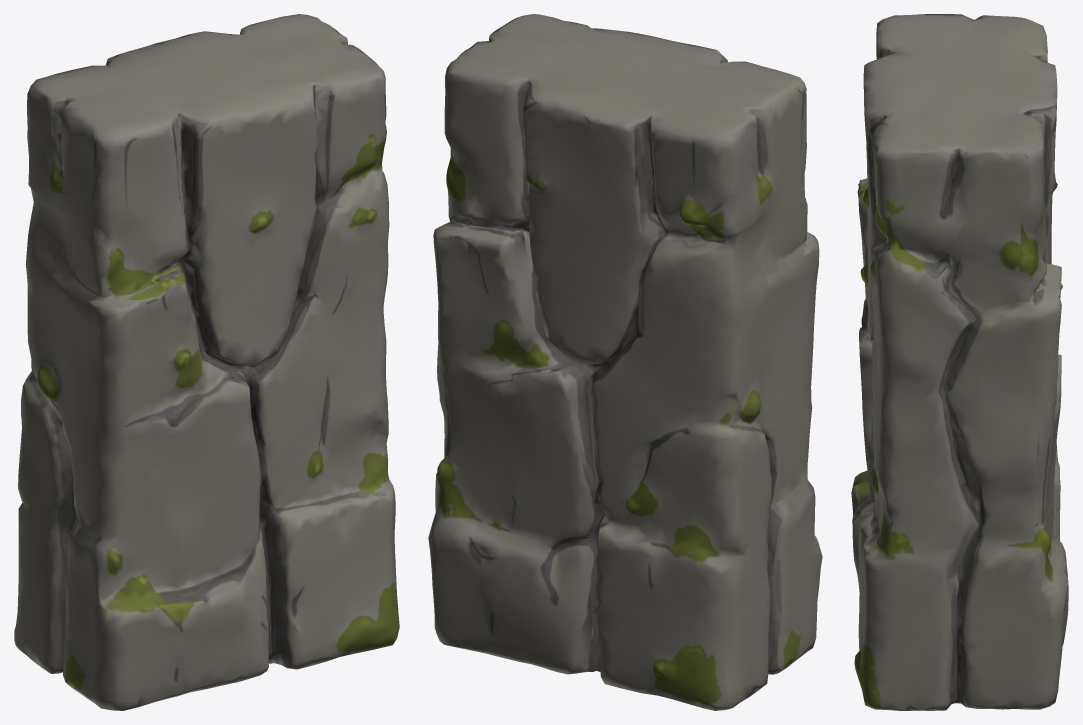
Rendered from Env_CliffWall.fbx.
3 views of the same model, side by side, from view 1: azimuth 30°, elevation 25°; view 2: azimuth 150°, elevation 25°; view 3: azimuth 270°, elevation 25° (orthographic). The views are drawn at different scales.
Parts seen in each view (by area): view 1: texture_mapping; view 2: texture_mapping; view 3: texture_mapping.
Part boxes in pixels (x1,y1,x2,y2): texture_mapping: [14, 14, 399, 710]; texture_mapping: [428, 14, 822, 710]; texture_mapping: [851, 14, 1068, 710].
Size of the model in its own units: 0.5502 by 0.3501 by 0.9987.
1 material, 1 textured.
